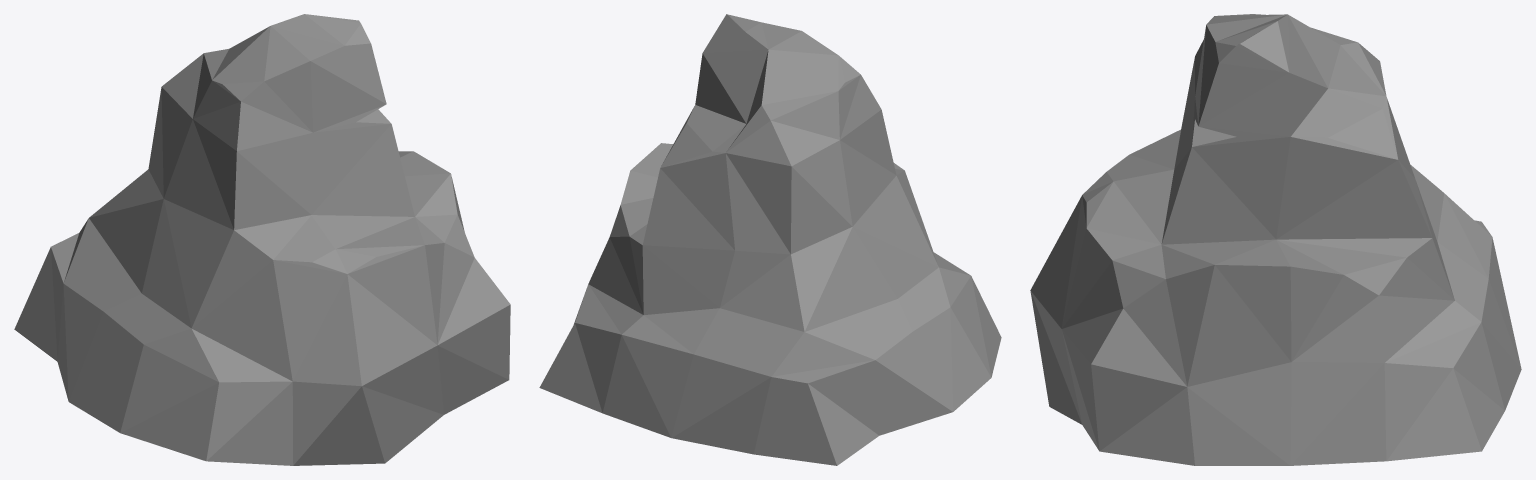
File: Rock_6.fbx
3 renders of one model, left to right at view 1: azimuth 30°, elevation 25°; view 2: azimuth 150°, elevation 25°; view 3: azimuth 270°, elevation 25°, orthographic. The views are drawn at different scales.
Parts seen in each view (by area): view 1: Rock_6; view 2: Rock_6; view 3: Rock_6.
Boxes of the visible parts, x1=… form: Rock_6: x1=14, y1=14, x2=510, y2=465; Rock_6: x1=539, y1=14, x2=1001, y2=465; Rock_6: x1=1030, y1=14, x2=1521, y2=465.
Size of the model in its own units: 201 by 186 by 208.
